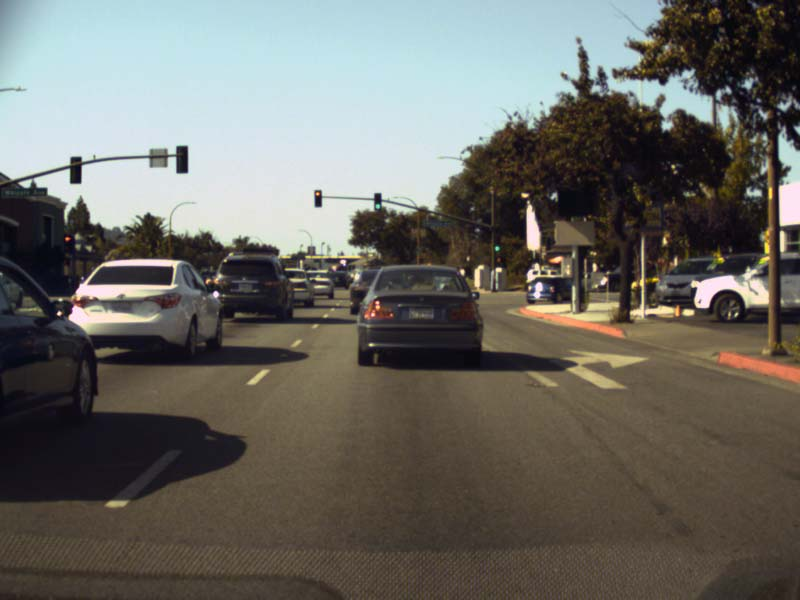Green: (374, 192, 380, 209), (493, 240, 500, 252)
Red: (314, 190, 322, 207), (63, 234, 71, 251)
